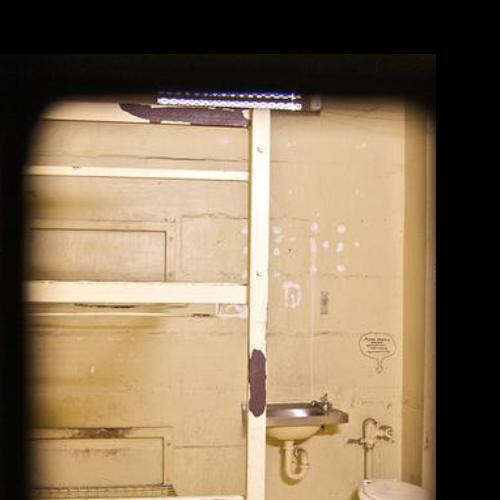Lavaplatos: (235, 390, 345, 444)
Sanitario: (348, 413, 428, 500)
